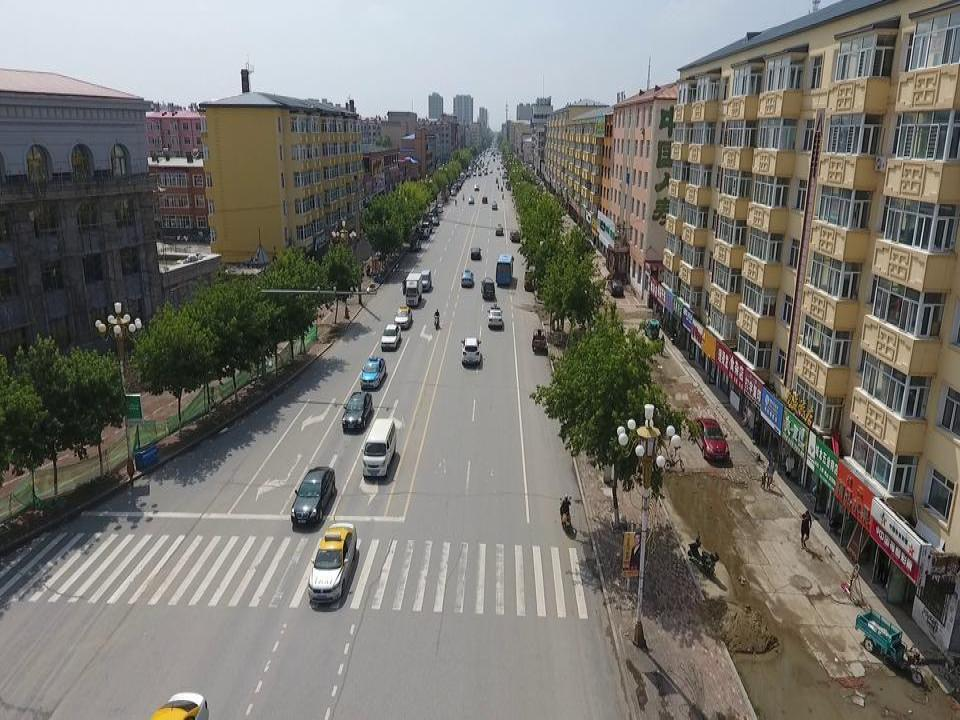bus: (496, 253, 515, 284)
car: (308, 523, 357, 601), (291, 466, 335, 522), (146, 690, 214, 718), (693, 417, 729, 460), (342, 391, 373, 428), (360, 356, 386, 388), (380, 324, 401, 349), (394, 305, 412, 328), (487, 303, 503, 328), (607, 278, 623, 294), (461, 269, 474, 287), (409, 239, 421, 252), (470, 247, 481, 260), (495, 224, 504, 236), (432, 216, 439, 225), (468, 196, 474, 204), (482, 196, 488, 203), (491, 202, 497, 209), (474, 184, 479, 191)
truck: (403, 272, 422, 307), (419, 220, 433, 239), (427, 208, 438, 223)
van: (361, 419, 396, 477), (461, 337, 481, 364), (481, 277, 495, 299), (418, 269, 431, 292), (509, 230, 520, 243), (437, 203, 442, 212)
